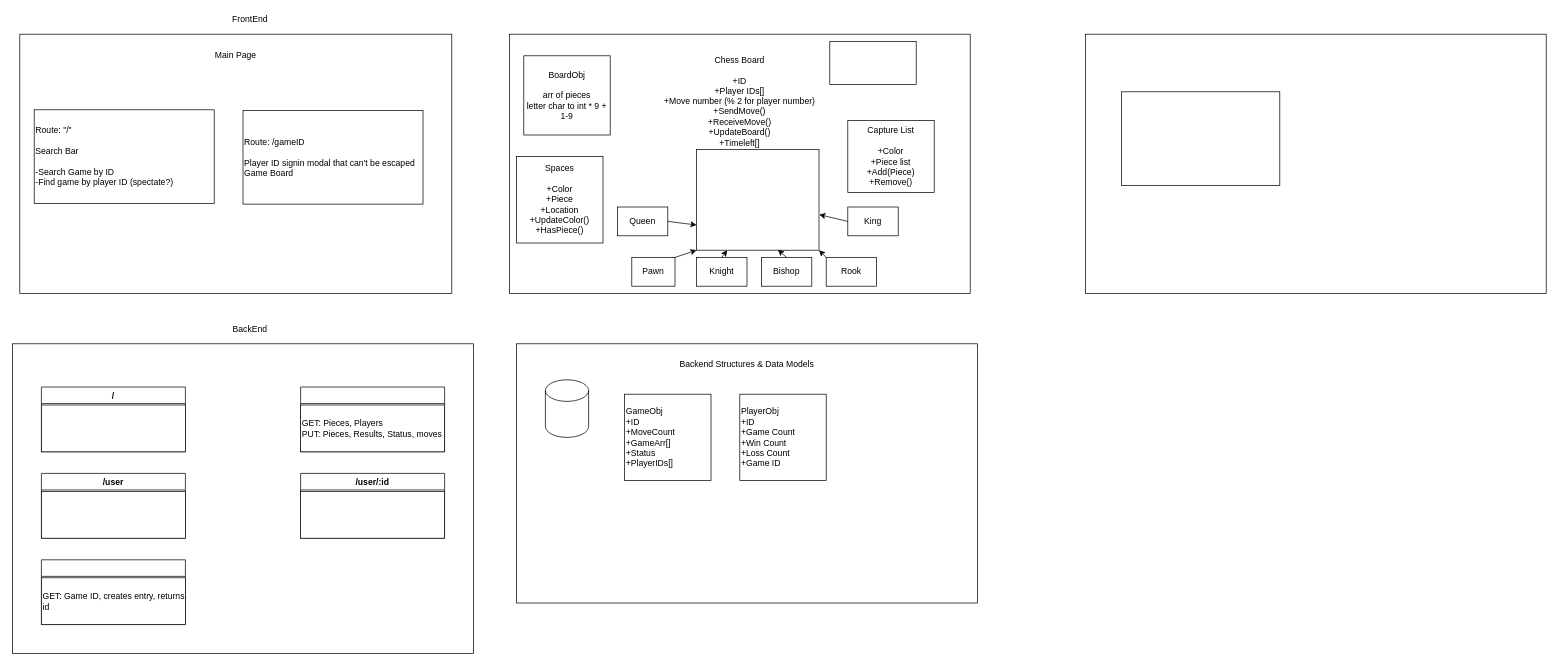
Some shapes in this 1559 by 666 pixel diagram are drawn without their labels. Here are the shapes that lost their labels. From the top down, the box of each, then its label:
(829, 41, 916, 85): STATE -playing v spectating -current ID -ongoing vs over
(1085, 33, 1546, 293): Piece
(696, 149, 819, 250): Pieces +Color +Image + +isValidMove() +Capture()
(41, 404, 185, 452): GET: Status, registered players, games played
(300, 386, 445, 452): /game/:id
(545, 379, 589, 437): MongoDB
(41, 491, 185, 538): POST: new user objects, returns id
(12, 343, 473, 653): GameService routes
(300, 491, 445, 538): GET: Name, stats, is_online PUT: stats, is_online
(41, 559, 185, 625): /start
